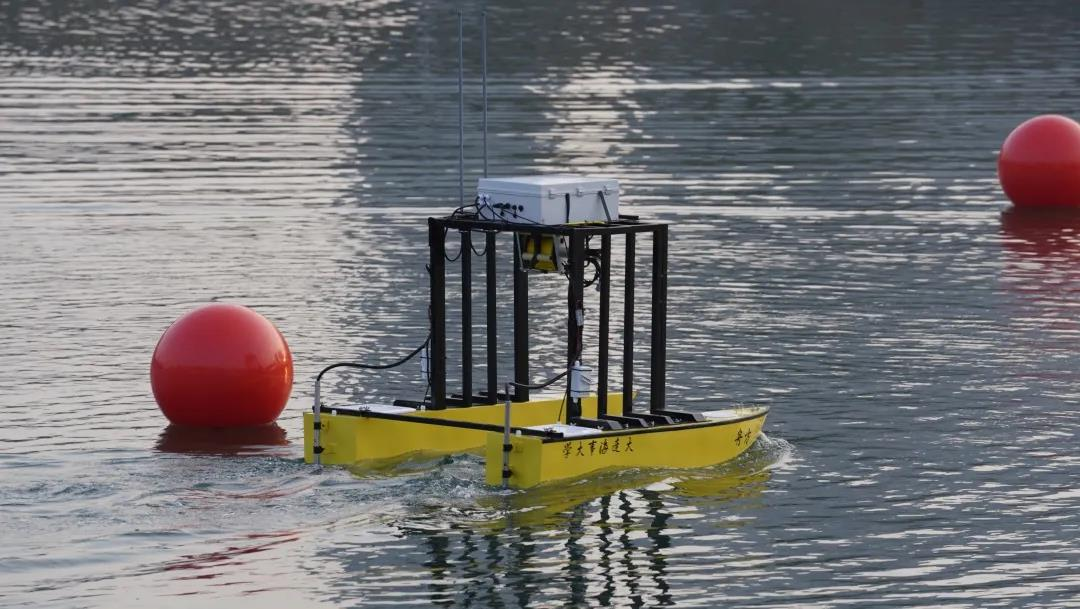ball: (147, 306, 293, 431), (1000, 108, 1080, 207)
boat: (295, 174, 773, 488)
